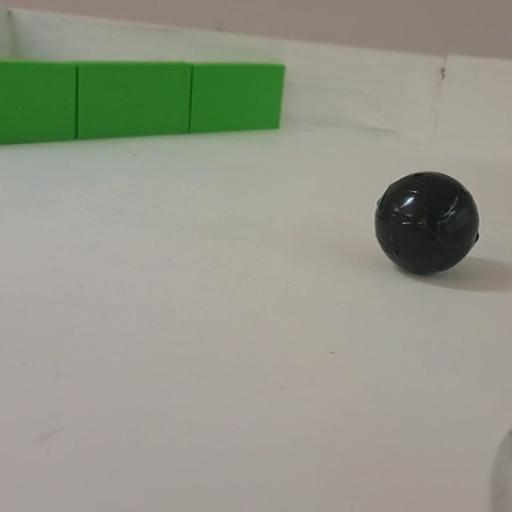alive: (493, 433, 512, 512)
dead: (373, 170, 481, 274)
